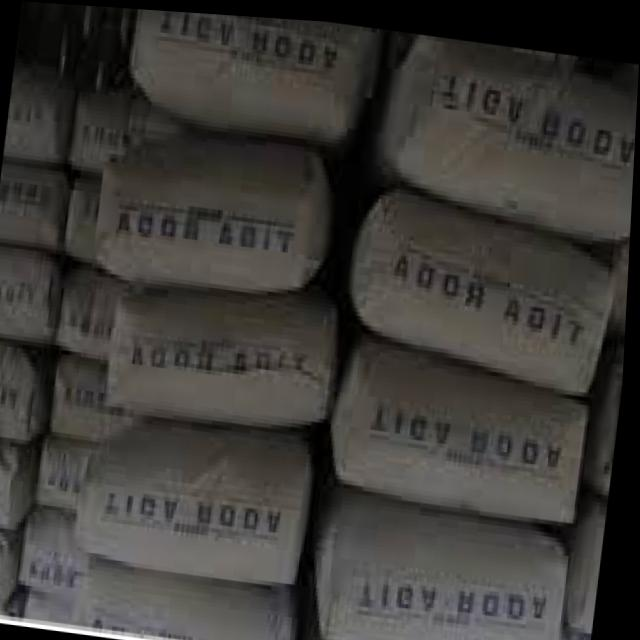cement_bag: (397, 29, 638, 232), (380, 188, 611, 385), (349, 347, 592, 520), (334, 514, 563, 640), (92, 438, 306, 562), (99, 150, 311, 267), (138, 8, 349, 124), (111, 304, 326, 413), (4, 79, 67, 170), (0, 260, 56, 340), (0, 354, 44, 435), (0, 456, 25, 530)
